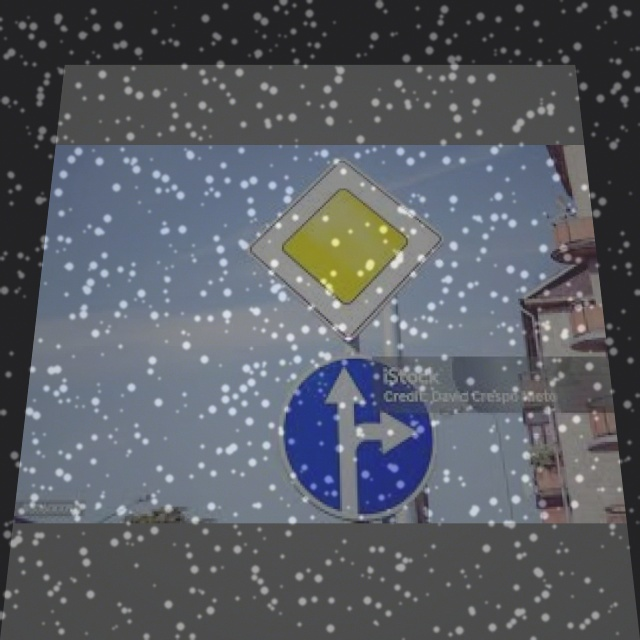Compulsory_Ahead_or_Turn_Right: (280, 355, 431, 514)
